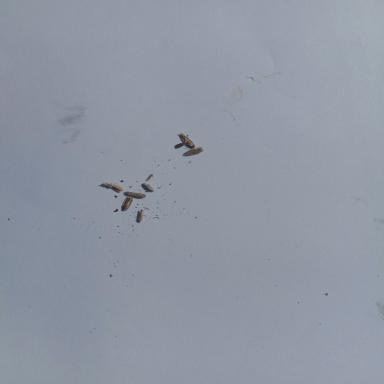pbw: (180, 132, 196, 150), (181, 146, 204, 156), (122, 195, 133, 211), (137, 206, 147, 222), (124, 191, 146, 198), (145, 174, 154, 182)
